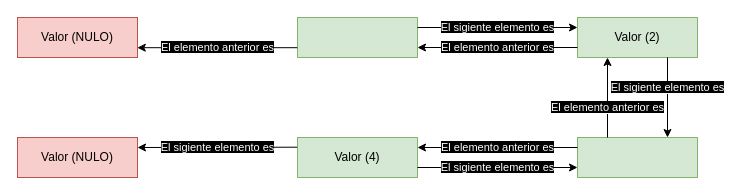
This 742x195 diagram has some shape labels left out. The centre of each missing label's shape, as x and y in pixels:
"Valor (1)" goes at (357,37).
"Valor (3)" goes at (637,157).
